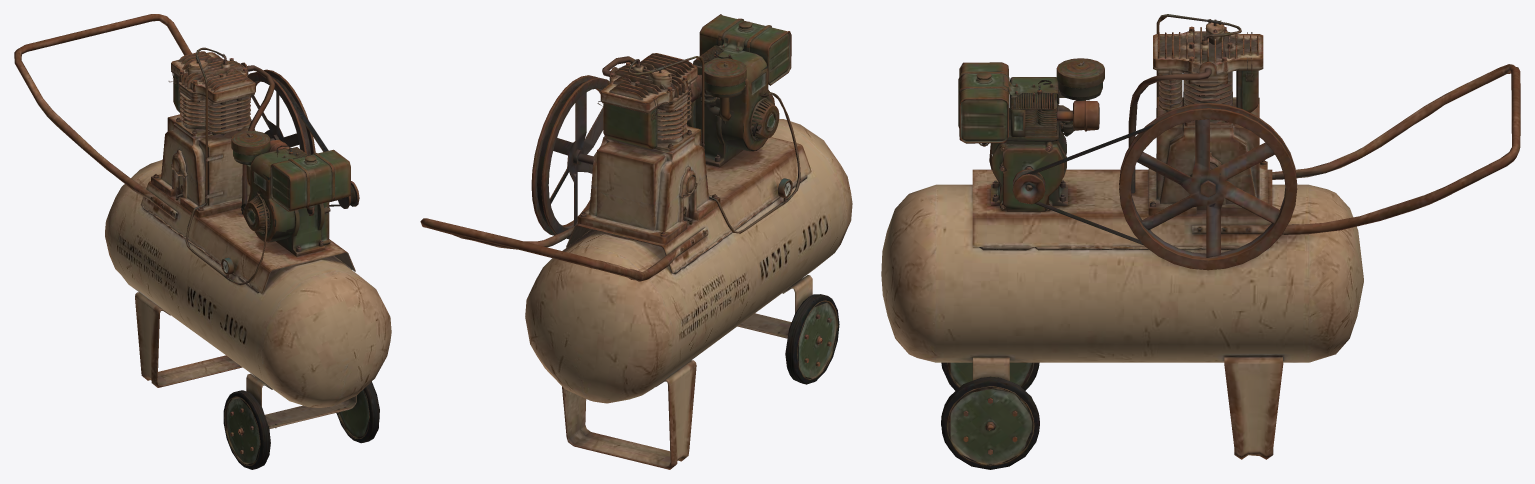
File: old_military_compressor.slim.glb
The picture shows the model from 3 angles, left to right: view 1: azimuth 30°, elevation 25°; view 2: azimuth 150°, elevation 25°; view 3: azimuth 270°, elevation 25°; orthographic projection. The views are drawn at different scales.
Size of the model in its own units: 0.5943 by 1.18 by 1.67.
2 materials, 2 textured.
